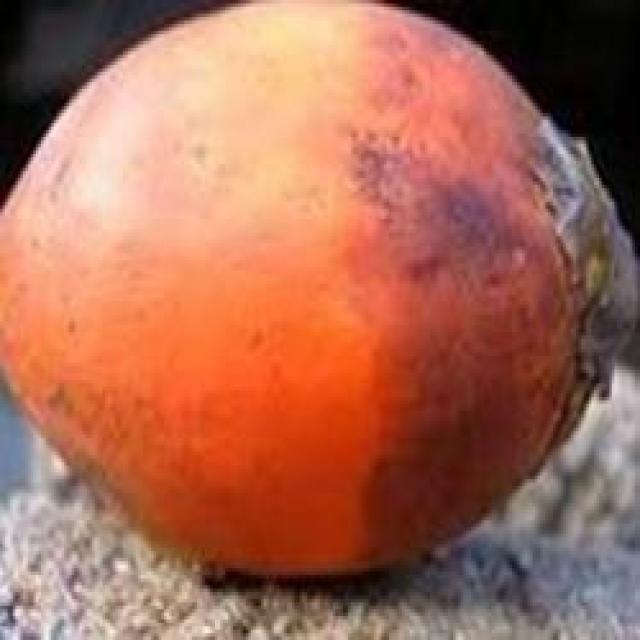good: (0, 0, 637, 592)
